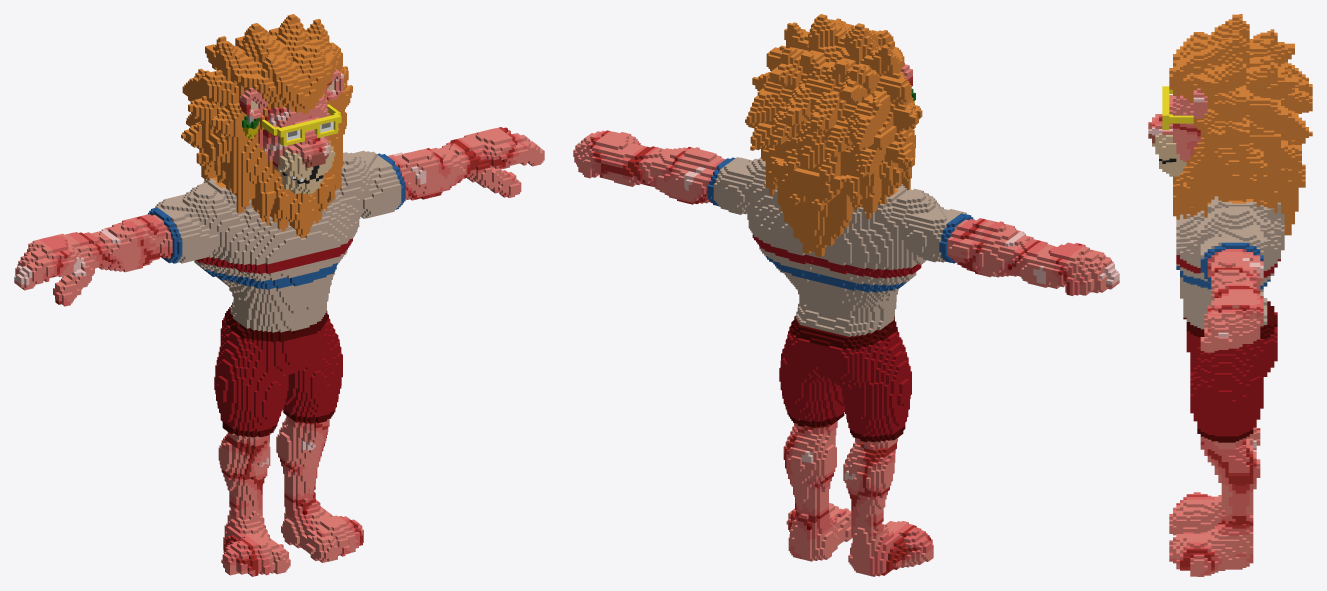
The picture shows the model from 3 angles, left to right: view 1: azimuth 30°, elevation 25°; view 2: azimuth 150°, elevation 25°; view 3: azimuth 270°, elevation 25°; orthographic projection. The views are drawn at different scales.
Parts seen in each view (by area): view 1: smirk; view 2: smirk; view 3: smirk.
Boxes of the visible parts, <box> form: smirk: <box>14,14,544,576</box>; smirk: <box>573,14,1119,576</box>; smirk: <box>1148,14,1312,576</box>.
Bounding box in the file's own units: 17.2 × 16.5 × 4.7.
Materials: 6 (6 with a texture image).
